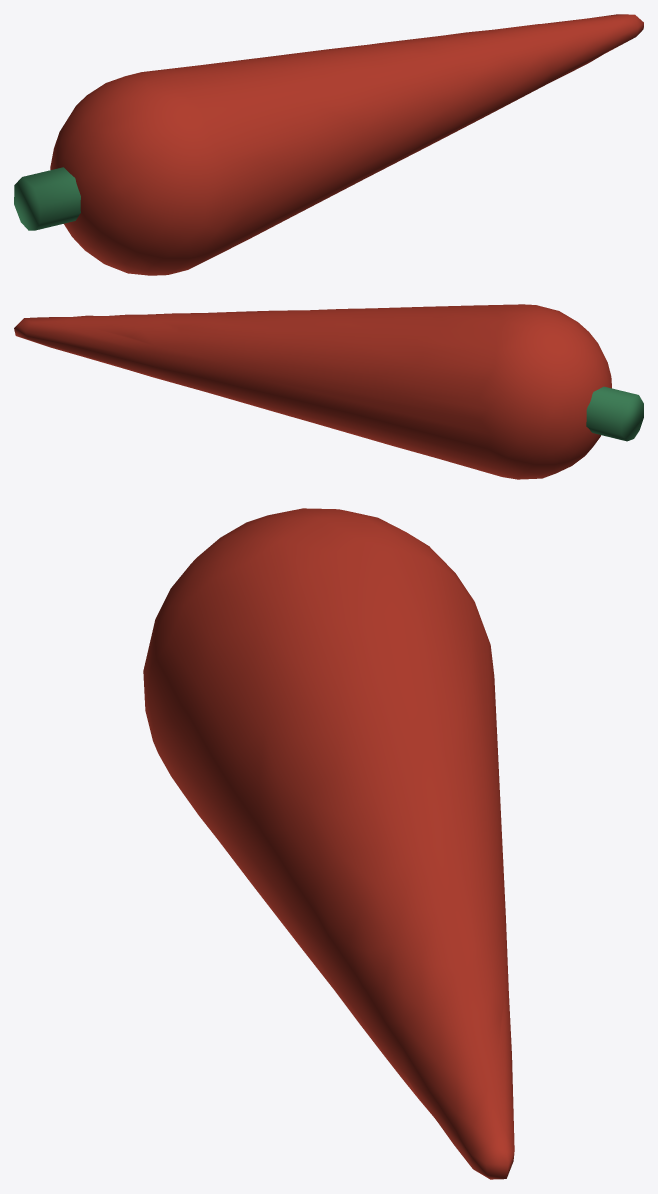
3 renders of one model, top to bottom at view 1: azimuth 30°, elevation 25°; view 2: azimuth 150°, elevation 25°; view 3: azimuth 270°, elevation 25°, orthographic. The views are drawn at different scales.
Parts seen in each view (by area): view 1: ot.001; view 2: ot.001; view 3: ot.001.
Part boxes in pixels (<box>): ot.001: <box>14,14,643,275</box>; ot.001: <box>14,304,643,479</box>; ot.001: <box>143,508,514,1179</box>.
Bounding box in the file's own units: 0.1126 × 0.03 × 0.0316.
